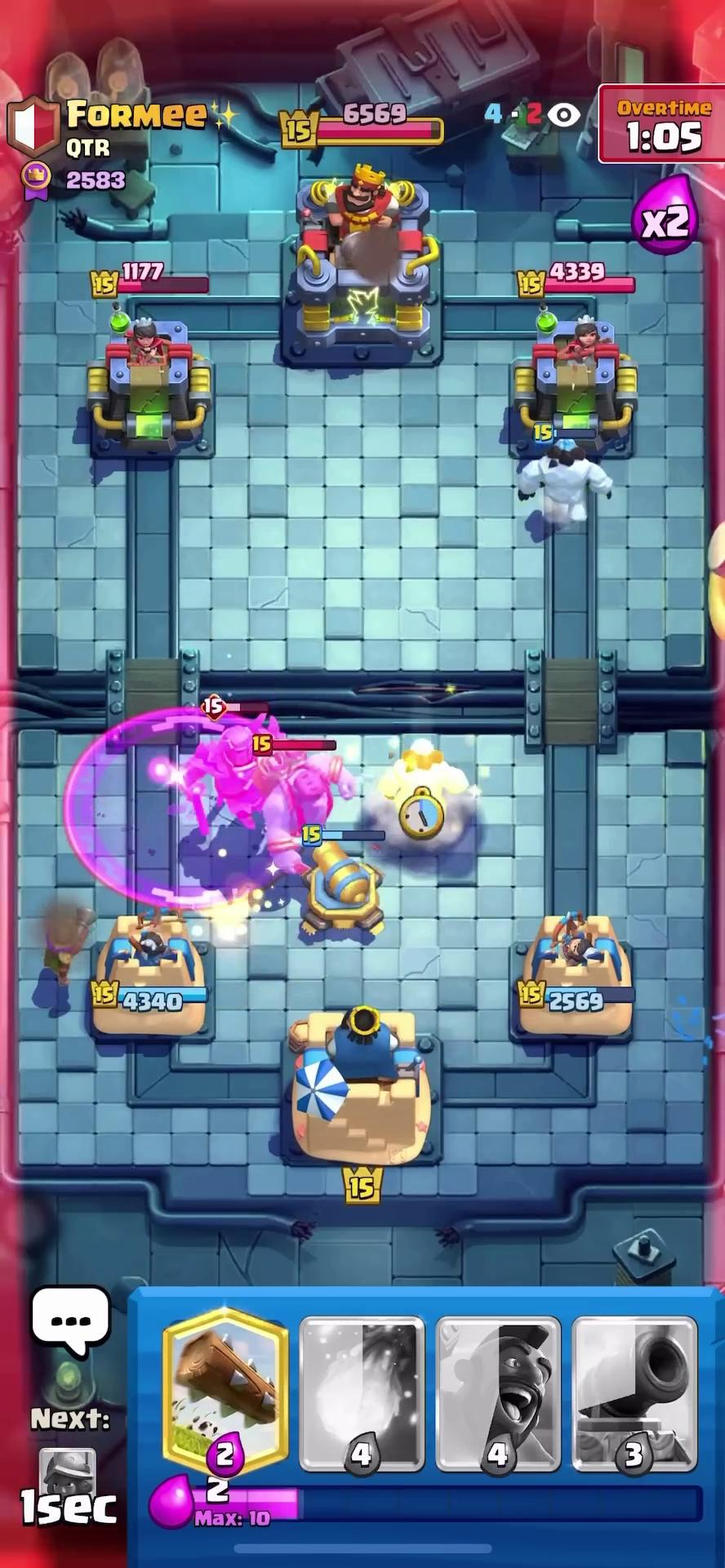cannon: (296, 825, 394, 941)
ice_golem: (514, 427, 606, 535), (392, 723, 482, 817)
musketeer: (20, 884, 108, 994)
